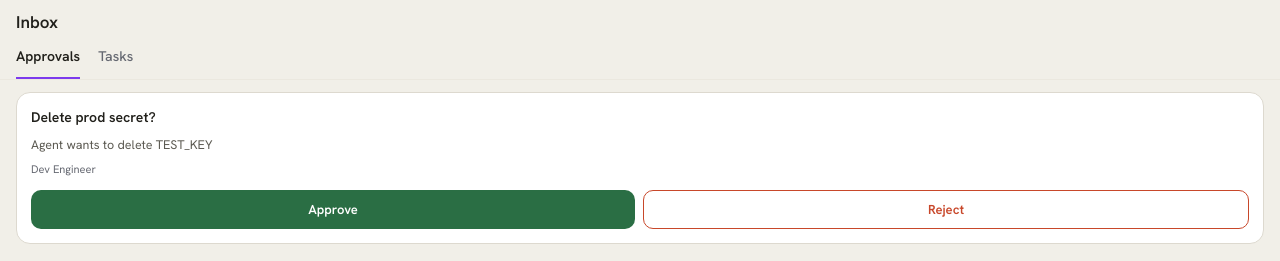
Test: MobileInbox › Approve POSTs /requests/{id}/respond with action=approved and drops the row
Expected: the text "Delete prod secret?" is shown, [31,108,156,126]
Click the button "Approve" at (333, 209), box [31,190,635,229]
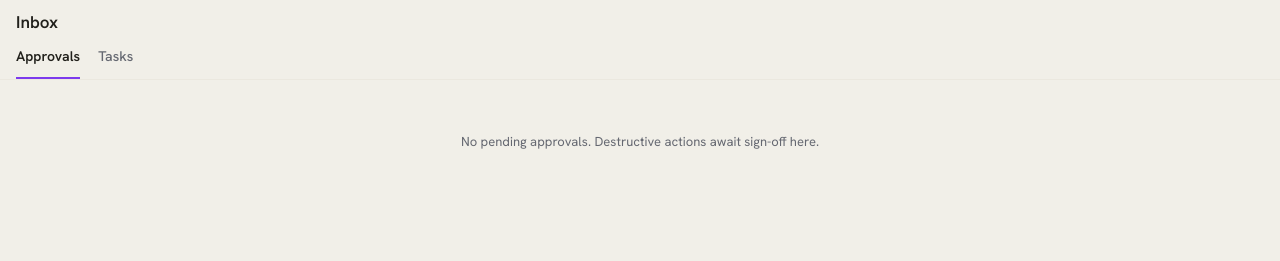
Now the text "Delete prod secret?" is gone
Now no elements with test id "inbox-row" are shown
